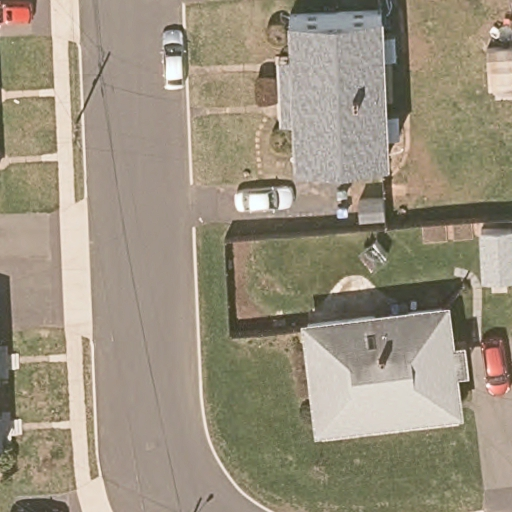DT: (71, 102, 90, 149)
